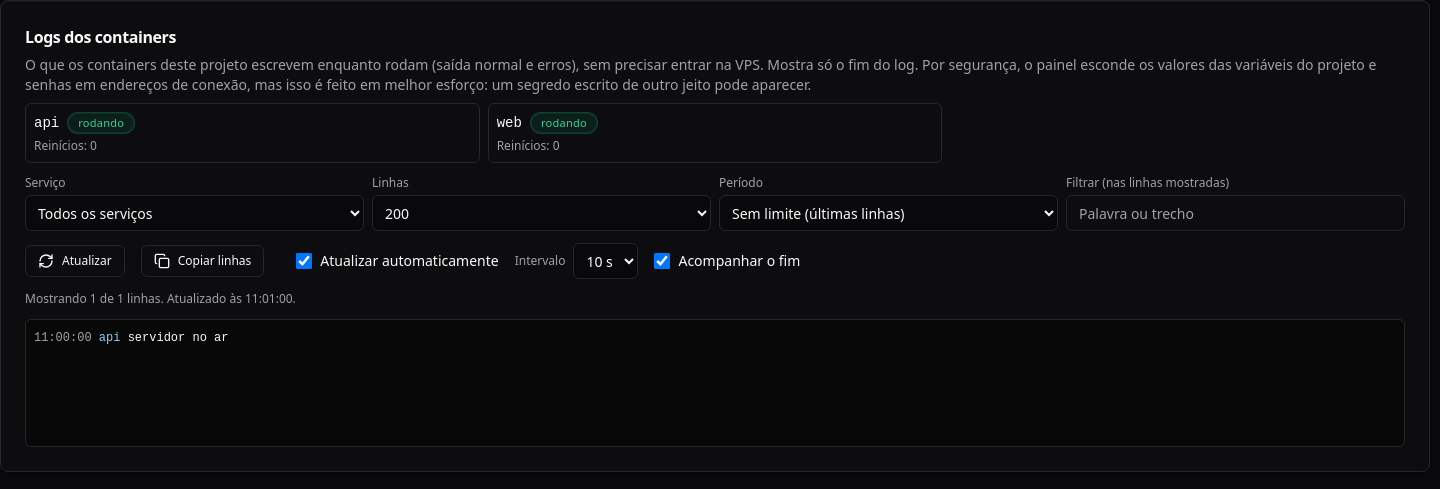
Test: ProjectLogsSection: troca de projeto e erros › erro numa consulta pedida pela pessoa tira a lista velha da tela (nada de dado antigo ao lado do erro)
Expected: the text "servidor no ar" is shown, [128, 331, 228, 345]
Click the button "Atualizar": (75,261) [25, 245, 125, 277]
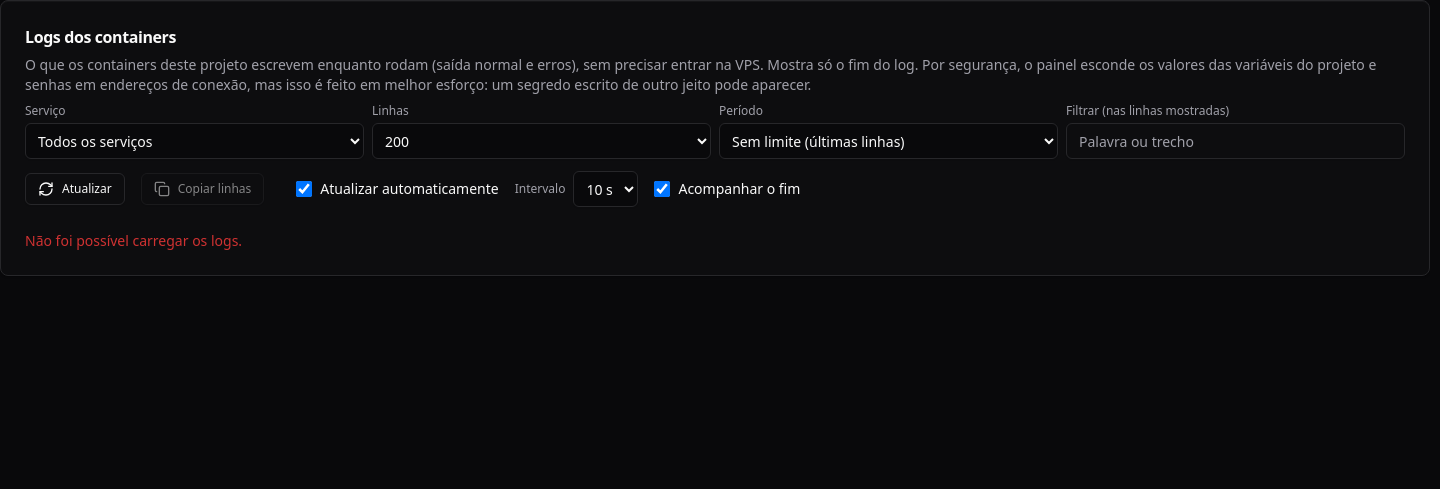
Expected: the message reads "Não foi possível carregar os logs.", [25, 231, 242, 250]
Expected: the text "servidor no ar" is gone
